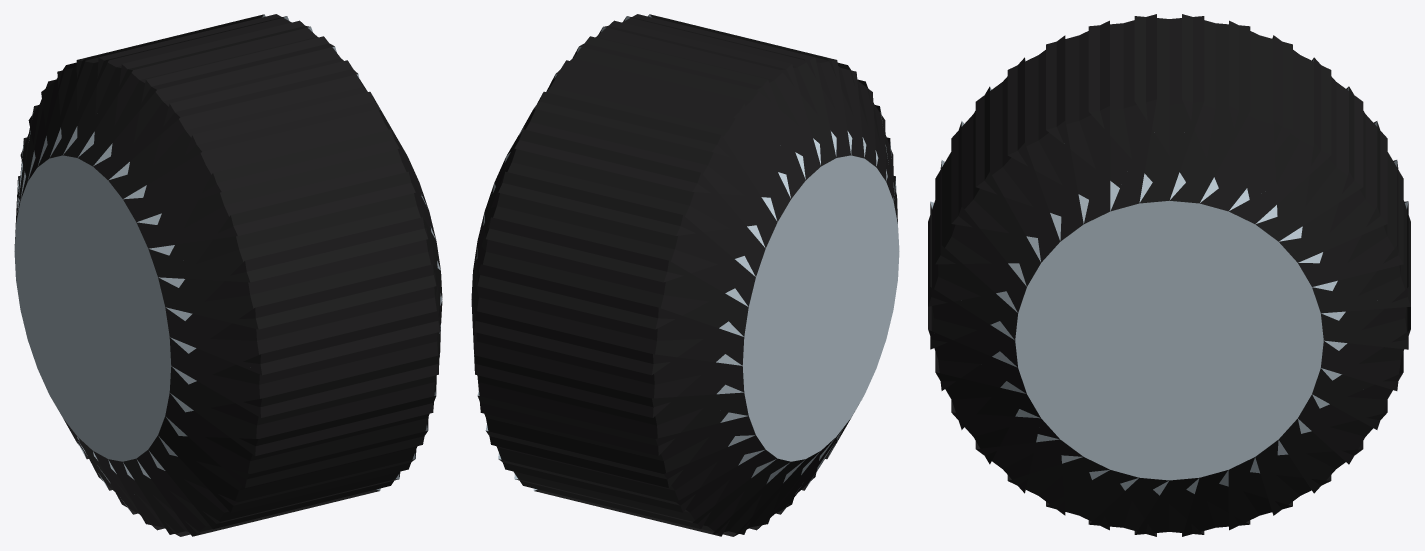
The model's file is Aerion_Regolith_Wheel_Tire.obj.
The picture shows the model from 3 angles, left to right: view 1: azimuth 30°, elevation 25°; view 2: azimuth 150°, elevation 25°; view 3: azimuth 270°, elevation 25°; orthographic projection.
Visible parts, largest first — view 1: Cylinder; view 2: Cylinder; view 3: Cylinder.
Part boxes in pixels (box(x1,y1,x2,y2)): Cylinder: box(14, 14, 442, 536); Cylinder: box(471, 14, 899, 536); Cylinder: box(928, 14, 1410, 536).
Bounding box in the file's own units: 0.6652 × 1.04 × 1.04.
